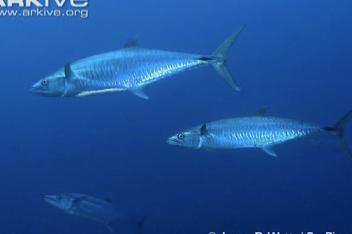Scombridae -Tunas-: (28, 19, 242, 105), (159, 103, 337, 160), (39, 183, 155, 234)
